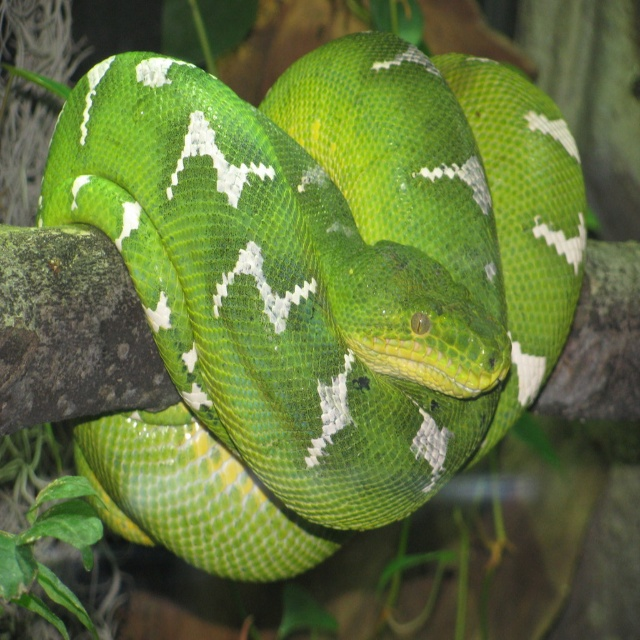Snake: (35, 30, 587, 584)
